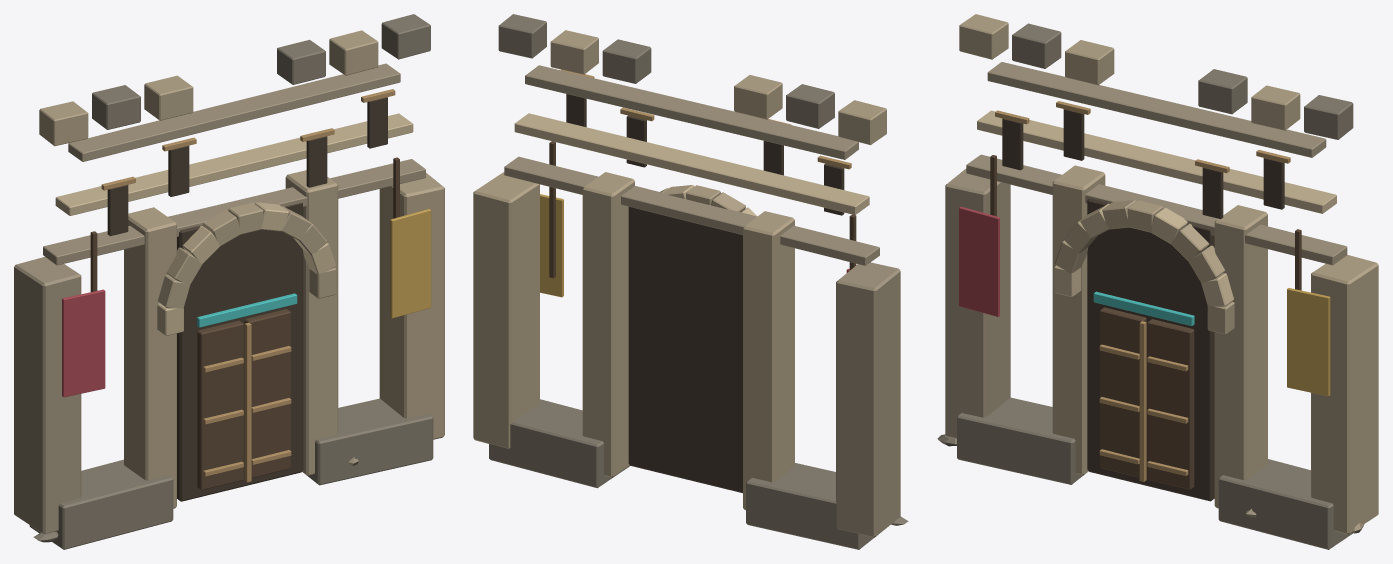
The model's file is palace-facade-dressing.glb.
The picture shows the model from 3 angles, left to right: view 1: azimuth 30°, elevation 25°; view 2: azimuth 150°, elevation 25°; view 3: azimuth 330°, elevation 25°; orthographic projection.
Visible parts, largest first — view 1: facade_outer_buttress_left, facade_shadow_recess, facade_gate_jamb_left, facade_outer_buttress_right, facade_gate_jamb_right, facade_weathered_course_2, facade_battered_foot_right, facade_battered_foot_left, facade_dark_gate_leaf_l, facade_weathered_course_1, facade_dark_gate_leaf_r, facade_weathered_course_0 (+25 smaller); view 2: facade_shadow_recess, facade_outer_buttress_left, facade_outer_buttress_right, facade_gate_jamb_left, facade_gate_jamb_right, facade_weathered_course_1, facade_weathered_course_2, facade_weathered_course_0, facade_battered_foot_right, facade_battered_foot_left, facade_banner_cloth_right, facade_parapet_chip_3 (+10 smaller); view 3: facade_outer_buttress_right, facade_shadow_recess, facade_gate_jamb_right, facade_outer_buttress_left, facade_gate_jamb_left, facade_weathered_course_2, facade_battered_foot_left, facade_dark_gate_leaf_r, facade_battered_foot_right, facade_weathered_course_1, facade_dark_gate_leaf_l, facade_weathered_course_0 (+25 smaller).
Boxes of the visible parts, x1,y1,x2,y2 form: facade_outer_buttress_left: (14,257,81,533); facade_shadow_recess: (177,203,303,501); facade_gate_jamb_left: (124,207,176,508); facade_outer_buttress_right: (379,173,444,439); facade_gate_jamb_right: (285,170,338,475); facade_weathered_course_2: (68,63,400,161); facade_battered_foot_right: (303,398,433,485); facade_battered_foot_left: (29,459,173,549); facade_dark_gate_leaf_l: (197,320,243,490); facade_weathered_course_1: (55,113,413,215); facade_dark_gate_leaf_r: (244,309,291,477); facade_weathered_course_0: (43,159,425,265); facade_shadow_recess: (628,206,742,493); facade_outer_buttress_left: (836,262,900,537); facade_outer_buttress_right: (473,172,539,448); facade_gate_jamb_left: (743,211,794,510); facade_gate_jamb_right: (582,172,634,477); facade_weathered_course_1: (514,113,869,215); facade_weathered_course_2: (525,65,858,159); facade_weathered_course_0: (504,156,879,265); facade_battered_foot_right: (489,399,630,488); facade_battered_foot_left: (746,463,873,549); facade_banner_cloth_right: (540,194,563,297); facade_parapet_chip_3: (602,39,651,83); facade_outer_buttress_right: (1311,255,1378,534); facade_shadow_recess: (1087,198,1214,501); facade_gate_jamb_right: (1214,205,1267,508); facade_outer_buttress_left: (945,168,1010,438); facade_gate_jamb_left: (1052,165,1105,475); facade_weathered_course_2: (987,62,1326,157); facade_battered_foot_left: (957,397,1085,484); facade_dark_gate_leaf_r: (1147,319,1194,489); facade_battered_foot_right: (1218,459,1352,549); facade_weathered_course_1: (977,110,1336,213); facade_dark_gate_leaf_l: (1100,307,1146,477); facade_weathered_course_0: (966,154,1347,265).
Bounding box in the file's own units: 7.47 × 7.45 × 1.17.
